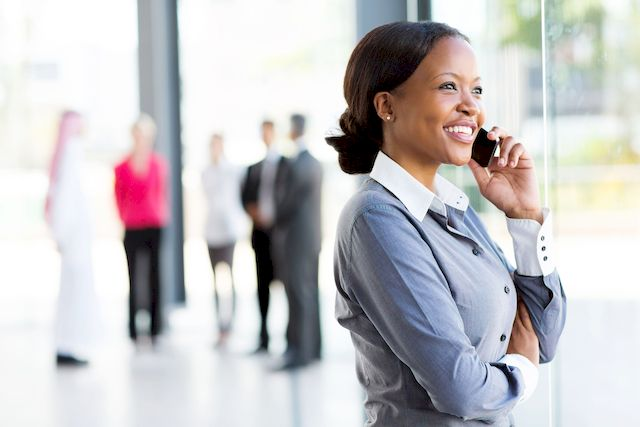phone: (468, 113, 504, 177)
talk: (425, 68, 541, 219)
